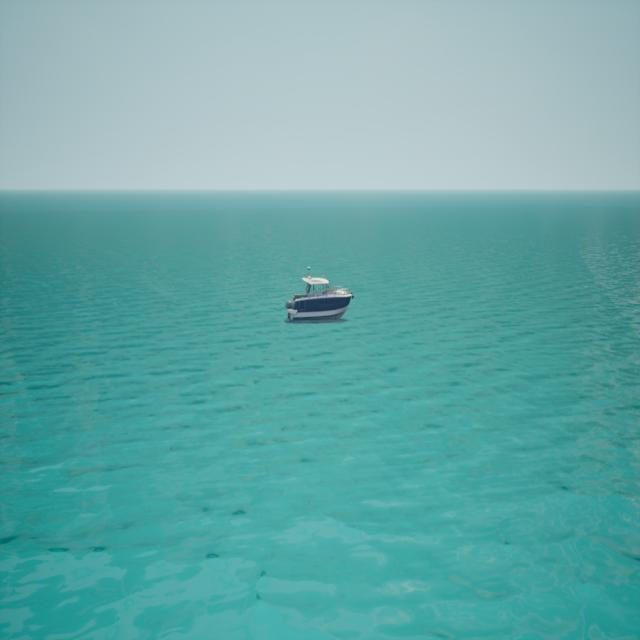ship: (284, 264, 355, 322)
